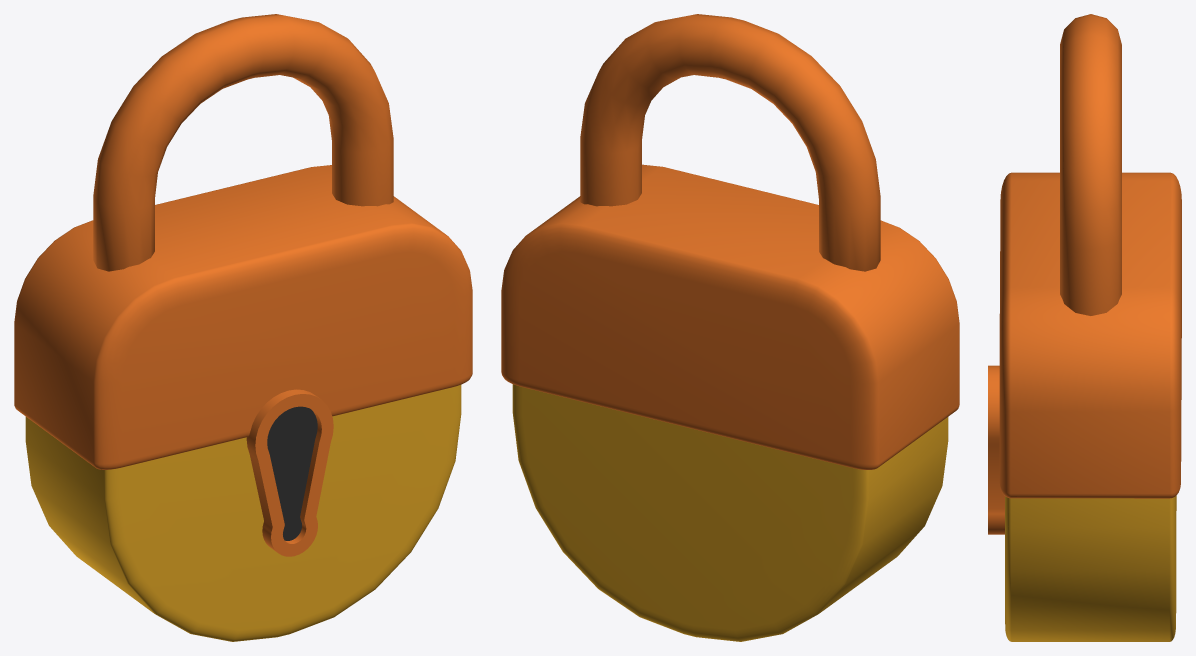
Rendered from kilit.fbx.
3 views of the same model, side by side, from view 1: azimuth 30°, elevation 25°; view 2: azimuth 150°, elevation 25°; view 3: azimuth 270°, elevation 25° (orthographic).
Parts seen in each view (by area): view 1: kilit1, kilit.2; view 2: kilit1, kilit.2; view 3: kilit1, kilit.2.
Boxes of the visible parts, left/top/right/bottom form: kilit1: left=14, top=165, right=472, bottom=641; kilit.2: left=93, top=14, right=393, bottom=271; kilit1: left=501, top=164, right=959, bottom=641; kilit.2: left=580, top=14, right=880, bottom=271; kilit1: left=988, top=172, right=1181, bottom=641; kilit.2: left=1060, top=14, right=1121, bottom=315.
Bounding box in the file's own units: 40.32 × 59.61 × 17.77.
